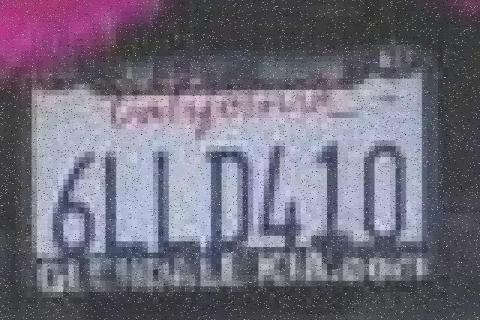LicensePlate: (29, 73, 452, 301)
